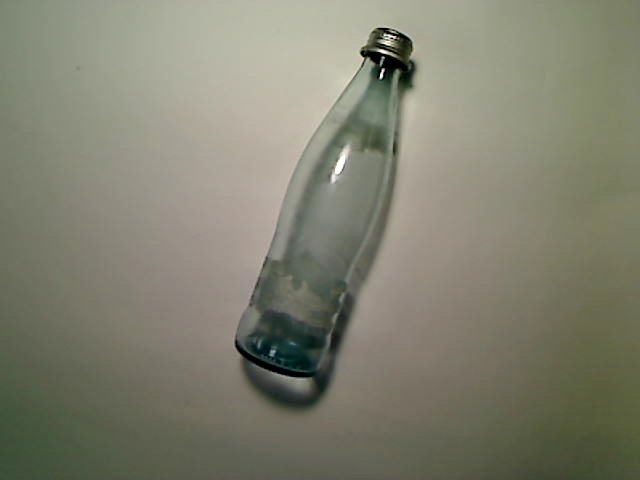bottle: (233, 26, 414, 378)
